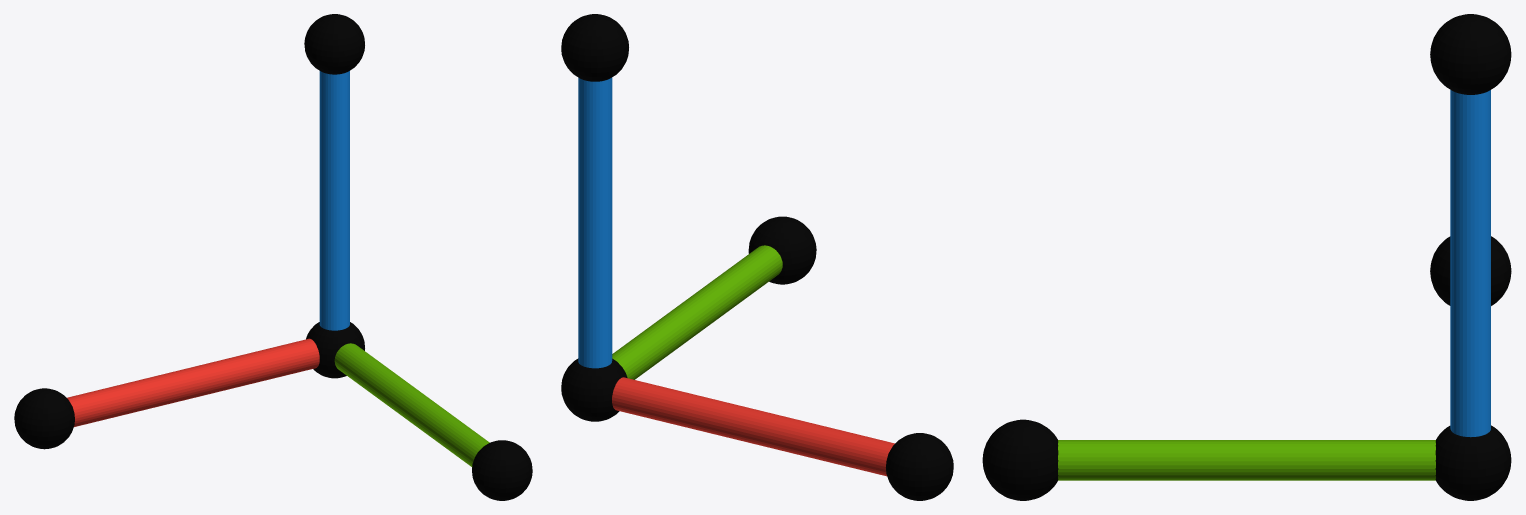
The picture shows the model from 3 angles, left to right: view 1: azimuth 30°, elevation 25°; view 2: azimuth 150°, elevation 25°; view 3: azimuth 270°, elevation 25°; orthographic projection. The views are drawn at different scales.
Visible parts, largest first — view 1: CylinderZ, CylinderX, CylinderY, SphereY, SphereX, SphereZ, SphereOrigin; view 2: CylinderZ, CylinderX, CylinderY, SphereZ, SphereX, SphereOrigin, SphereY; view 3: CylinderY, CylinderZ, SphereZ, SphereY, SphereOrigin, SphereX.
Boxes of the visible parts, x1=… form: CylinderZ: x1=319, y1=71, x2=349, y2=330; CylinderX: x1=67, y1=338, x2=319, y2=426; CylinderY: x1=334, y1=343, x2=489, y2=466; SphereY: x1=472, y1=440, x2=532, y2=500; SphereX: x1=14, y1=388, x2=74, y2=449; SphereZ: x1=304, y1=14, x2=364, y2=74; SphereOrigin: x1=306, y1=322, x2=364, y2=378; CylinderZ: x1=578, y1=77, x2=612, y2=368; CylinderX: x1=612, y1=377, x2=894, y2=476; CylinderY: x1=612, y1=245, x2=782, y2=379; SphereZ: x1=561, y1=14, x2=628, y2=81; SphereX: x1=886, y1=433, x2=953, y2=500; SphereOrigin: x1=561, y1=358, x2=627, y2=421; SphereY: x1=748, y1=216, x2=816, y2=284; CylinderY: x1=1058, y1=440, x2=1435, y2=480; CylinderZ: x1=1450, y1=90, x2=1490, y2=437; SphereZ: x1=1430, y1=14, x2=1511, y2=94; SphereY: x1=982, y1=419, x2=1058, y2=500; SphereOrigin: x1=1435, y1=425, x2=1511, y2=500; SphereX: x1=1430, y1=236, x2=1511, y2=305.
Size of the model in its own units: 130 by 130 by 130.
